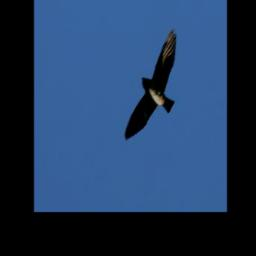Swallow: (127, 28, 178, 142)
